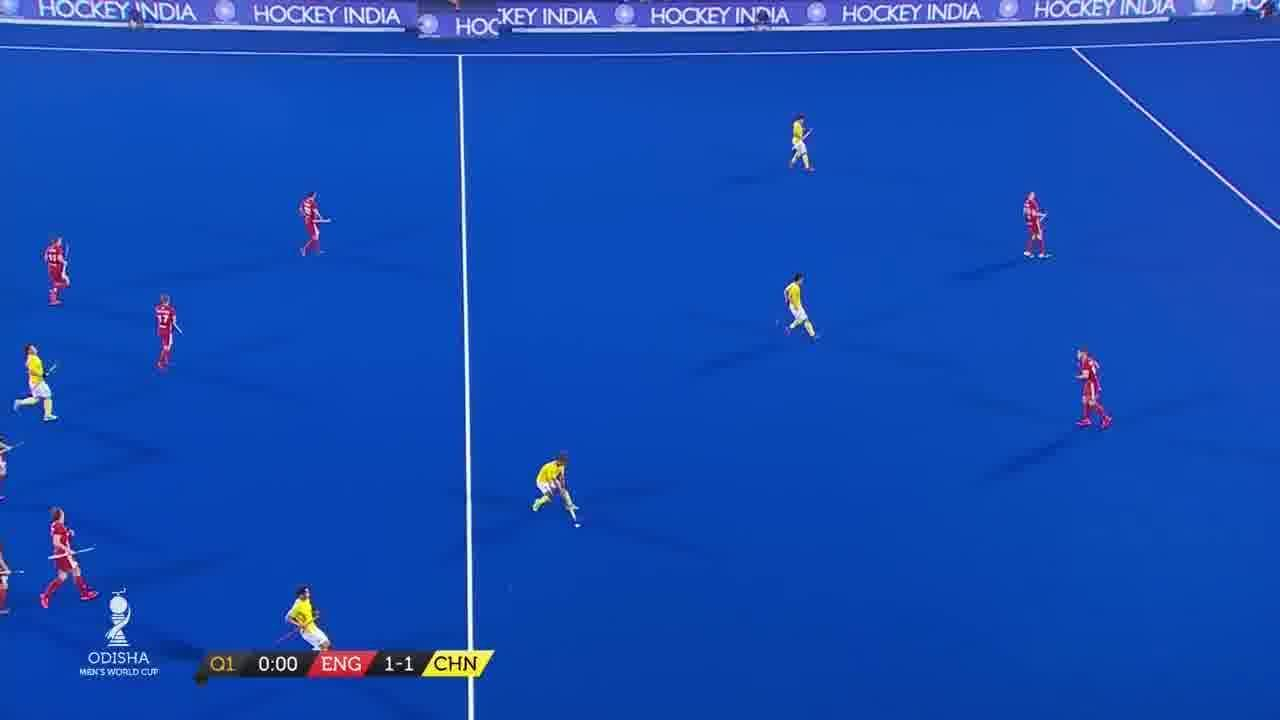ball: (568, 522, 582, 532)
